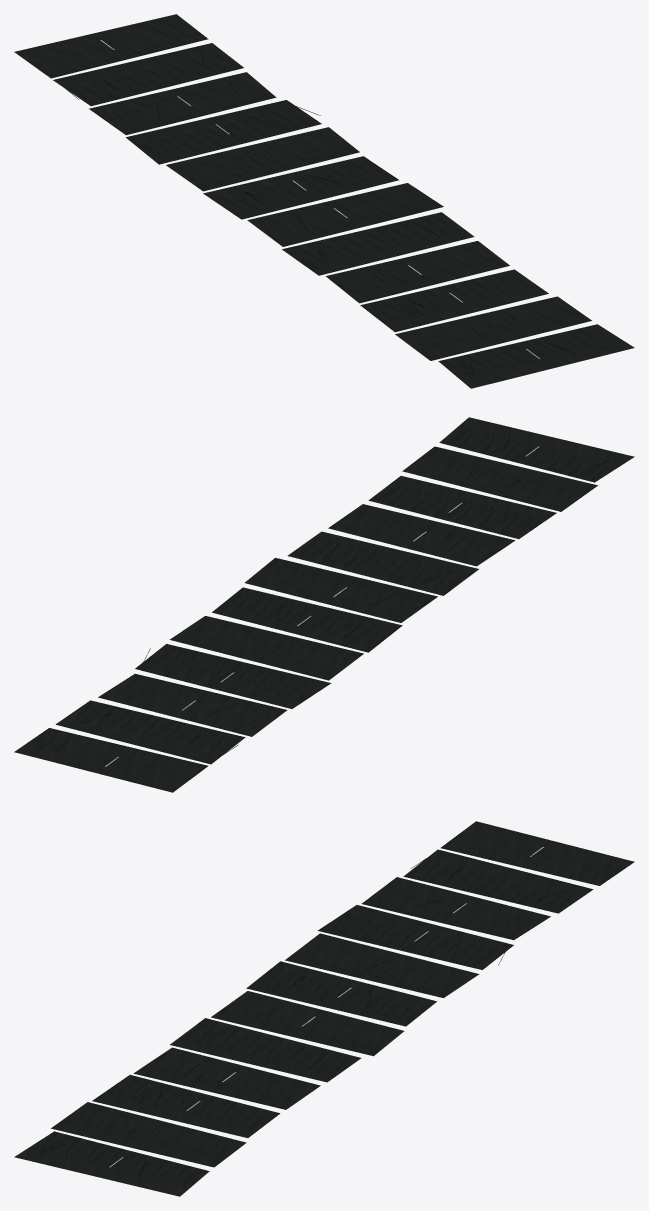
File: road_slab.glb
3 renders of one model, top to bottom at view 1: azimuth 30°, elevation 25°; view 2: azimuth 150°, elevation 25°; view 3: azimuth 330°, elevation 25°, orthographic.
Visible parts, largest first — view 1: Cracked_asphalt_piece.010, Cracked_asphalt_piece.003, Cracked_asphalt_piece.011, Cracked_asphalt_piece.006, Cracked_asphalt_piece.004, Cracked_asphalt_piece, Cracked_asphalt_piece.005, Cracked_asphalt_piece.007, Cracked_asphalt_piece.001, Cracked_asphalt_piece.009, Cracked_asphalt_piece.002, Cracked_asphalt_piece.008; view 2: Cracked_asphalt_piece.010, Cracked_asphalt_piece.003, Cracked_asphalt_piece.011, Cracked_asphalt_piece.006, Cracked_asphalt_piece.004, Cracked_asphalt_piece, Cracked_asphalt_piece.005, Cracked_asphalt_piece.007, Cracked_asphalt_piece.001, Cracked_asphalt_piece.002, Cracked_asphalt_piece.009, Cracked_asphalt_piece.008; view 3: Cracked_asphalt_piece.010, Cracked_asphalt_piece.003, Cracked_asphalt_piece.011, Cracked_asphalt_piece.006, Cracked_asphalt_piece.004, Cracked_asphalt_piece, Cracked_asphalt_piece.005, Cracked_asphalt_piece.007, Cracked_asphalt_piece.001, Cracked_asphalt_piece.002, Cracked_asphalt_piece.009, Cracked_asphalt_piece.008.
Boxes of the visible parts, left/top/right/bottom form: Cracked_asphalt_piece.010: left=395, top=296, right=591, bottom=360; Cracked_asphalt_piece.003: left=126, top=100, right=321, bottom=164; Cracked_asphalt_piece.011: left=438, top=324, right=634, bottom=388; Cracked_asphalt_piece.006: left=247, top=183, right=443, bottom=246; Cracked_asphalt_piece.004: left=166, top=127, right=359, bottom=191; Cracked_asphalt_piece: left=14, top=14, right=208, bottom=78; Cracked_asphalt_piece.005: left=203, top=156, right=399, bottom=219; Cracked_asphalt_piece.007: left=282, top=212, right=474, bottom=275; Cracked_asphalt_piece.001: left=53, top=43, right=243, bottom=106; Cracked_asphalt_piece.009: left=360, top=269, right=548, bottom=332; Cracked_asphalt_piece.002: left=89, top=72, right=276, bottom=135; Cracked_asphalt_piece.008: left=325, top=241, right=509, bottom=303; Cracked_asphalt_piece.010: left=402, top=446, right=597, bottom=511; Cracked_asphalt_piece.003: left=135, top=644, right=331, bottom=708; Cracked_asphalt_piece.011: left=439, top=417, right=634, bottom=482; Cracked_asphalt_piece.006: left=244, top=557, right=437, bottom=622; Cracked_asphalt_piece.004: left=169, top=616, right=363, bottom=680; Cracked_asphalt_piece: left=14, top=728, right=208, bottom=792; Cracked_asphalt_piece.005: left=212, top=587, right=402, bottom=652; Cracked_asphalt_piece.007: left=287, top=531, right=478, bottom=595; Cracked_asphalt_piece.001: left=55, top=700, right=245, bottom=764; Cracked_asphalt_piece.002: left=98, top=673, right=287, bottom=736; Cracked_asphalt_piece.009: left=368, top=476, right=556, bottom=538; Cracked_asphalt_piece.008: left=328, top=504, right=515, bottom=566; Cracked_asphalt_piece.010: left=51, top=1102, right=246, bottom=1167; Cracked_asphalt_piece.003: left=317, top=905, right=513, bottom=969; Cracked_asphalt_piece.011: left=14, top=1131, right=209, bottom=1196; Cracked_asphalt_piece.006: left=211, top=991, right=404, bottom=1056; Cracked_asphalt_piece.004: left=285, top=933, right=479, bottom=997; Cracked_asphalt_piece: left=440, top=821, right=634, bottom=885; Cracked_asphalt_piece.005: left=246, top=961, right=436, bottom=1026; Cracked_asphalt_piece.007: left=170, top=1018, right=361, bottom=1082; Cracked_asphalt_piece.001: left=403, top=849, right=593, bottom=913; Cracked_asphalt_piece.002: left=361, top=877, right=550, bottom=940; Cracked_asphalt_piece.009: left=92, top=1075, right=280, bottom=1137; Cracked_asphalt_piece.008: left=133, top=1047, right=320, bottom=1109.
Size of the model in its own units: 10.29 by 0.0191 by 47.8.
Materials: 3 (3 with a texture image).
